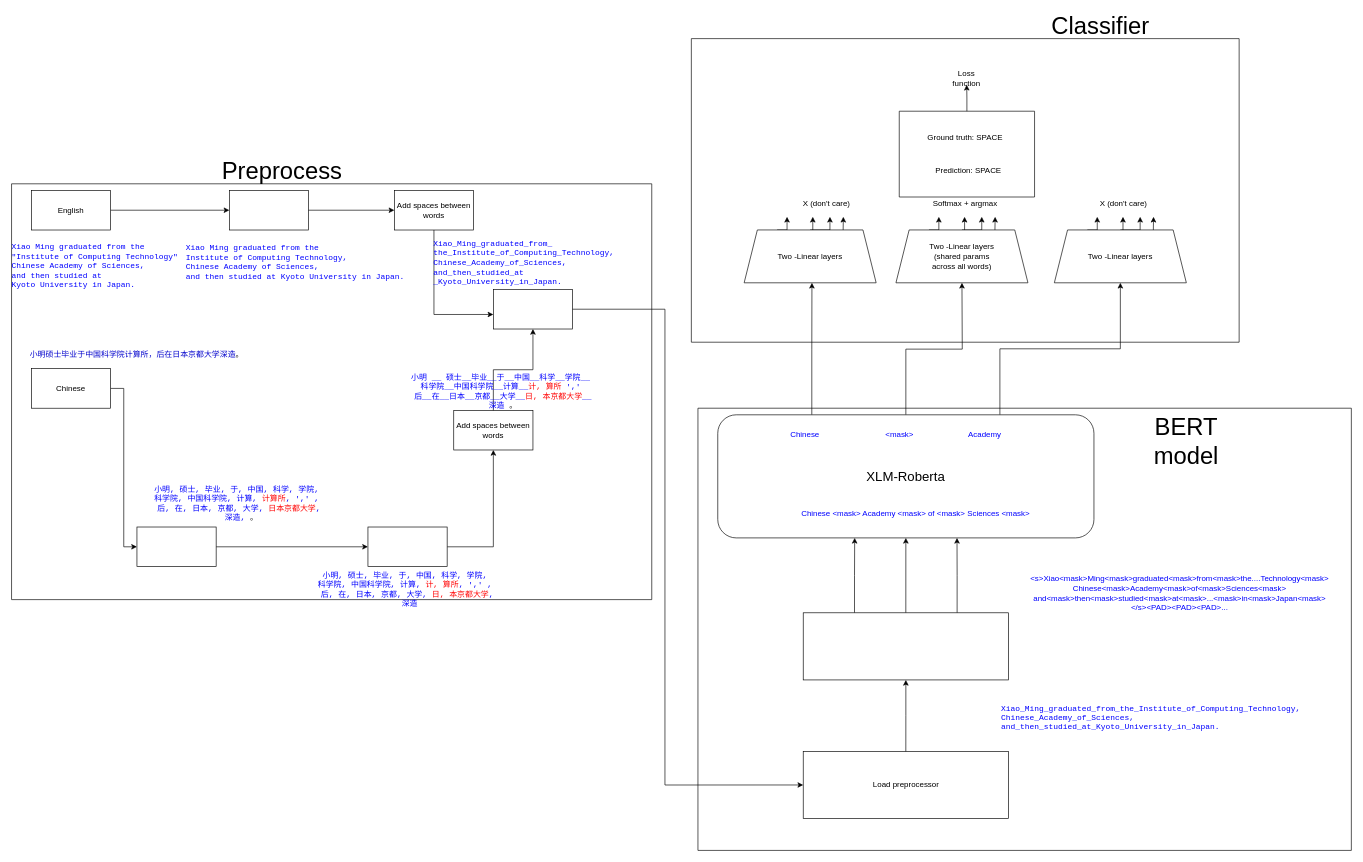
The diagram is 1363 pixels wide and 862 high, and some of its shapes have lost their labels. The centre of each missing label's shape, as x and y in pixels:
"Mask punctuations" goes at [905,646].
"Pass through XLM-R tokenizer" goes at [407,546].
"Shuffle and merge" goes at [533,309].
"Substitution of punctuation, tokenize text using Jieba" goes at [176,546].
"Substitution of punctuation, Tokenize text," goes at [269,210].
